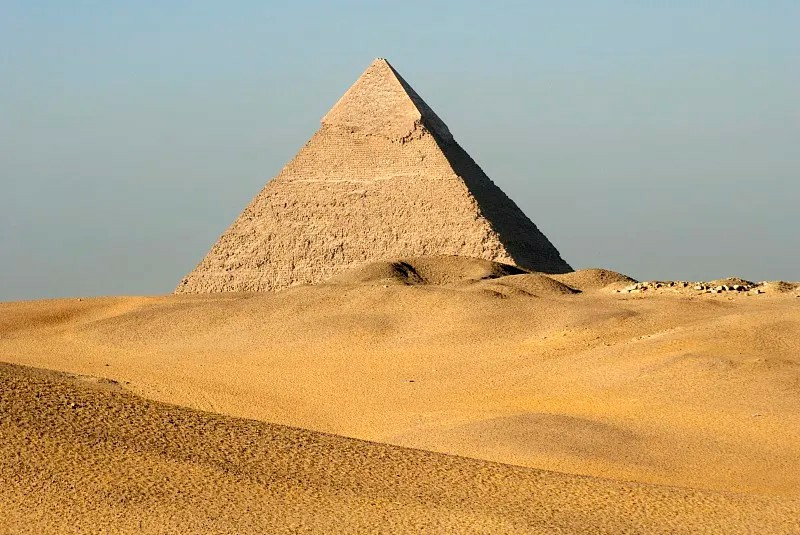Pyramid: (173, 58, 574, 293)
